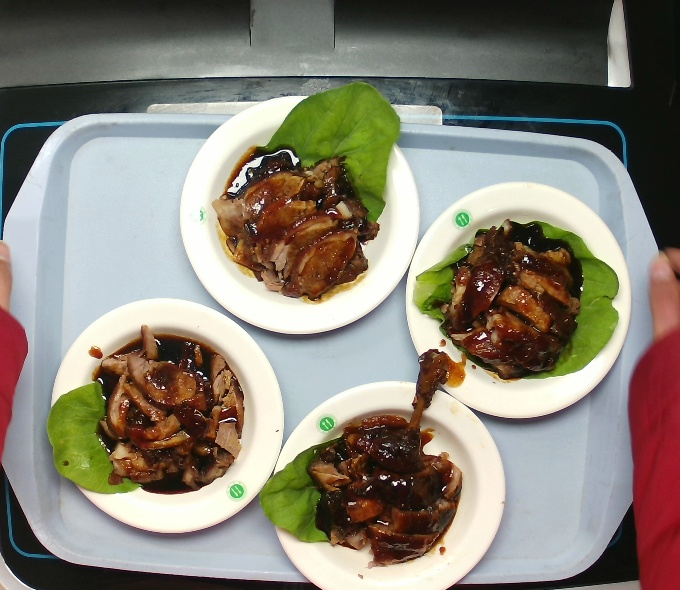wcq-MiZhiYa: (265, 387, 473, 574), (207, 108, 393, 308), (46, 330, 257, 496), (410, 229, 622, 376)
